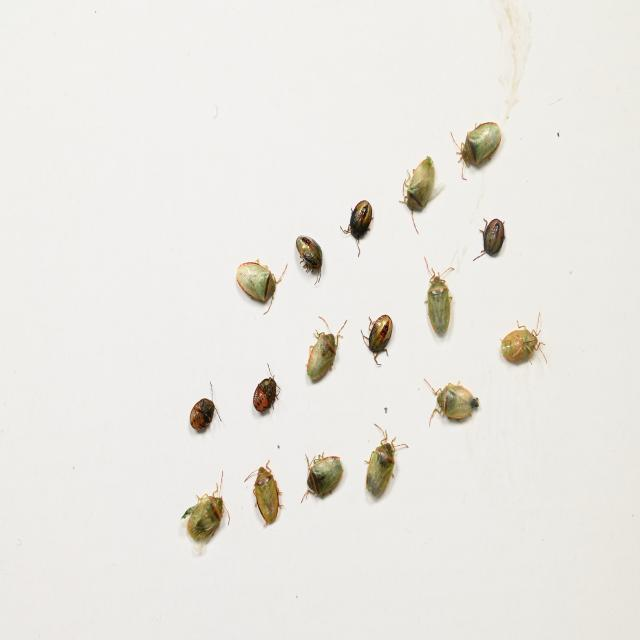stinkbug: (181, 470, 230, 548), (364, 422, 409, 500), (451, 120, 501, 180), (305, 314, 348, 383), (398, 154, 434, 234), (236, 259, 288, 314), (422, 255, 456, 338), (244, 458, 282, 532), (500, 310, 548, 366), (301, 451, 344, 504)
